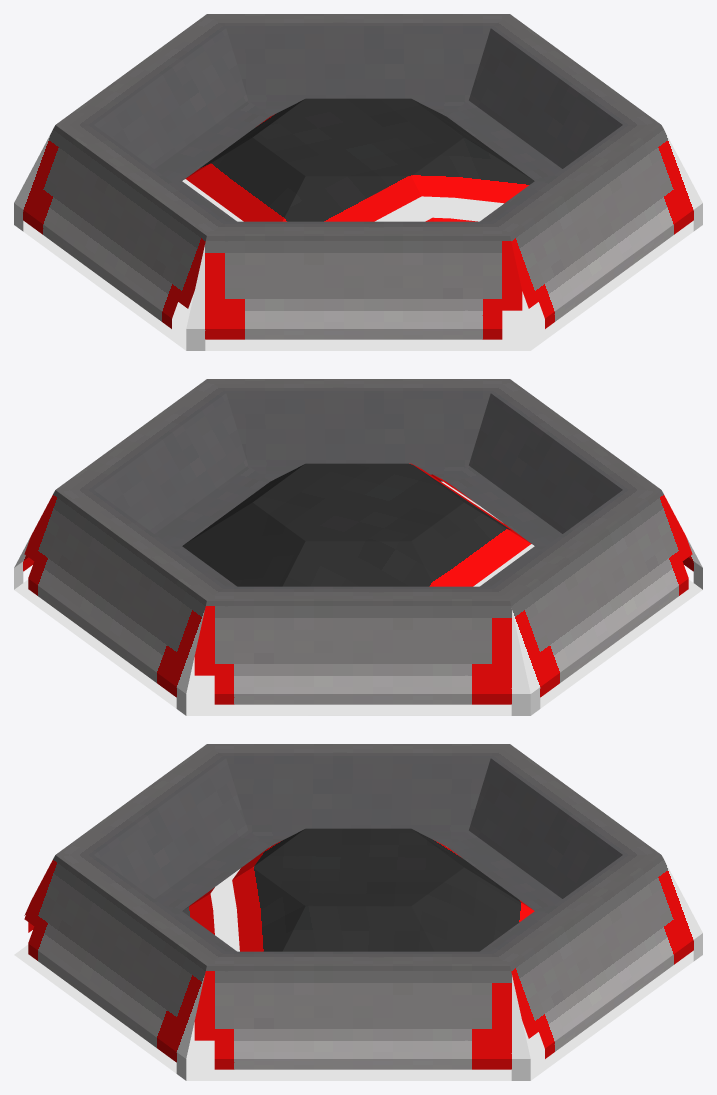
The model's file is lamp_flat.obj.
3 views of the same model, one above another, from view 1: azimuth 30°, elevation 25°; view 2: azimuth 150°, elevation 25°; view 3: azimuth 270°, elevation 25° (orthographic).
Visible parts, largest first — view 1: Cylinder; view 2: Cylinder; view 3: Cylinder.
Part boxes in pixels (box(x1,y1,x2,y2)): Cylinder: box(14, 14, 702, 350); Cylinder: box(14, 379, 702, 715); Cylinder: box(14, 744, 702, 1080).
Bounding box in the file's own units: 0.866 × 0.16 × 1.
